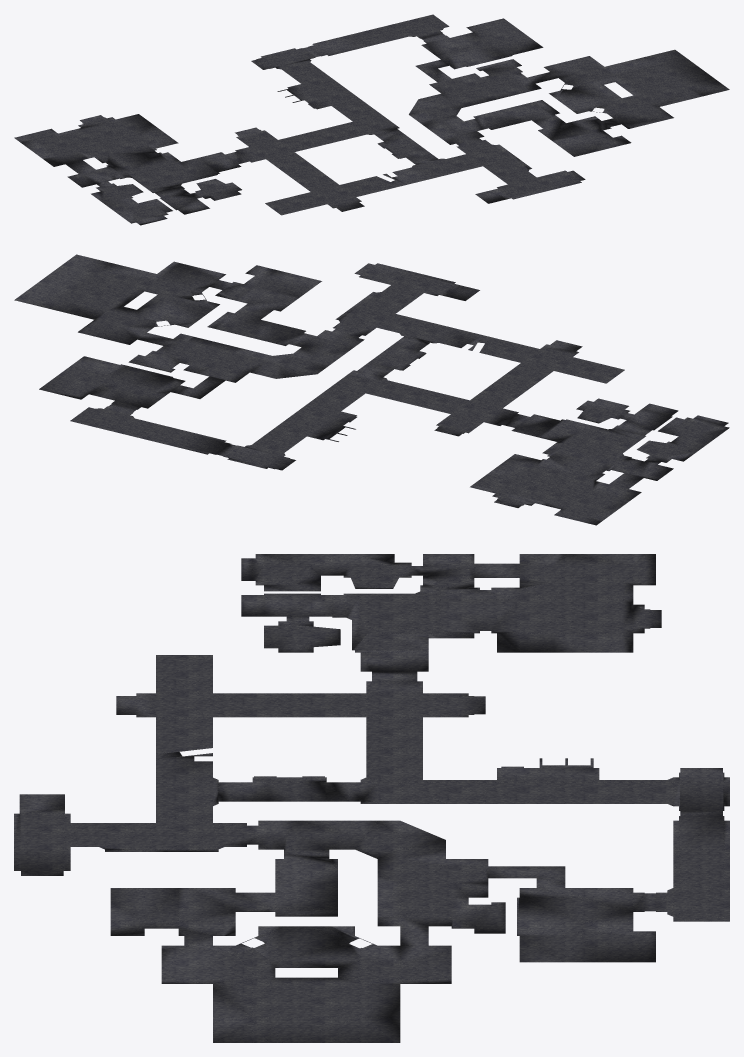
File: fabric.obj
The picture shows the model from 3 angles, top to bottom: view 1: azimuth 30°, elevation 25°; view 2: azimuth 150°, elevation 25°; view 3: azimuth 270°, elevation 25°; orthographic projection. The views are drawn at different scales.
Parts seen in each view (by area): view 1: fabric_Office.216; view 2: fabric_Office.216; view 3: fabric_Office.216.
Boxes of the visible parts, bbox=[...] form: fabric_Office.216: bbox=[14, 14, 729, 225]; fabric_Office.216: bbox=[14, 254, 729, 525]; fabric_Office.216: bbox=[14, 554, 729, 1042].
Size of the model in its own units: 72.06 by 1.2e-05 by 44.62.
Materials: 1 (1 with a texture image).
